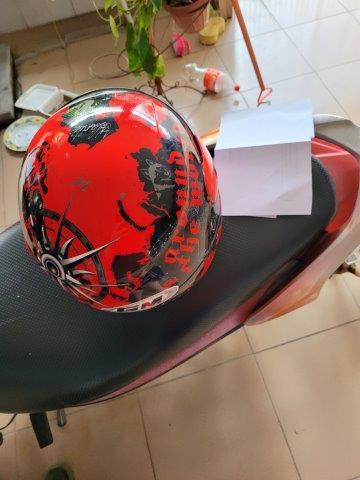botolplastik: (183, 62, 241, 93)
kertas: (217, 100, 316, 221)
